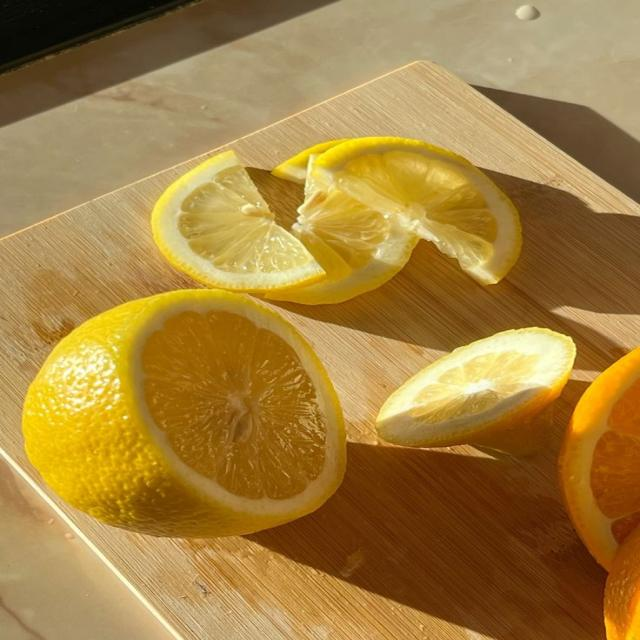lemon: (24, 290, 345, 536), (309, 138, 521, 283), (377, 328, 575, 454), (267, 141, 418, 304), (153, 151, 324, 291), (266, 190, 418, 304), (272, 139, 347, 183)
